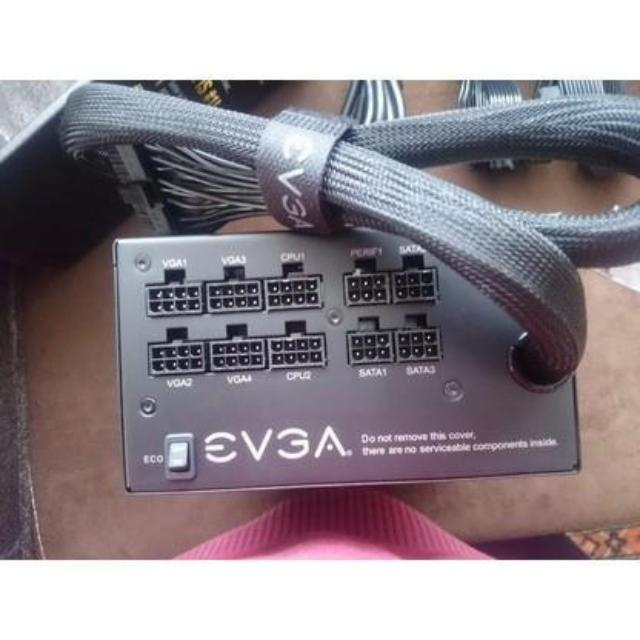PSU: (100, 217, 602, 500)
